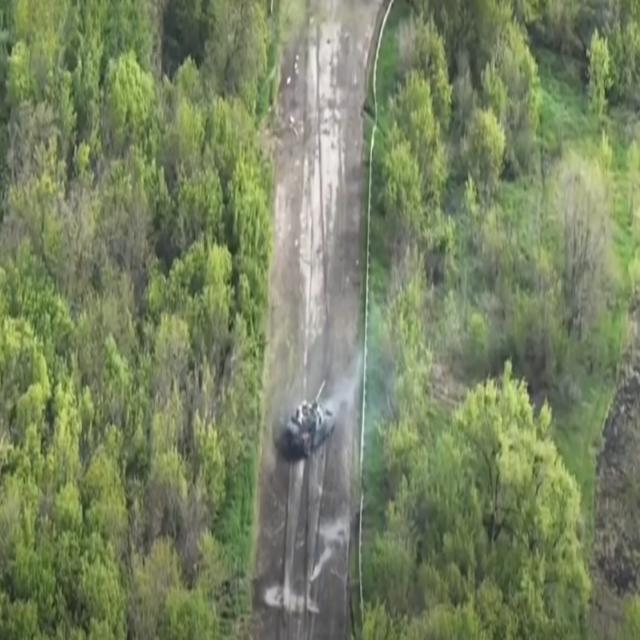MBT: (285, 379, 338, 461)
